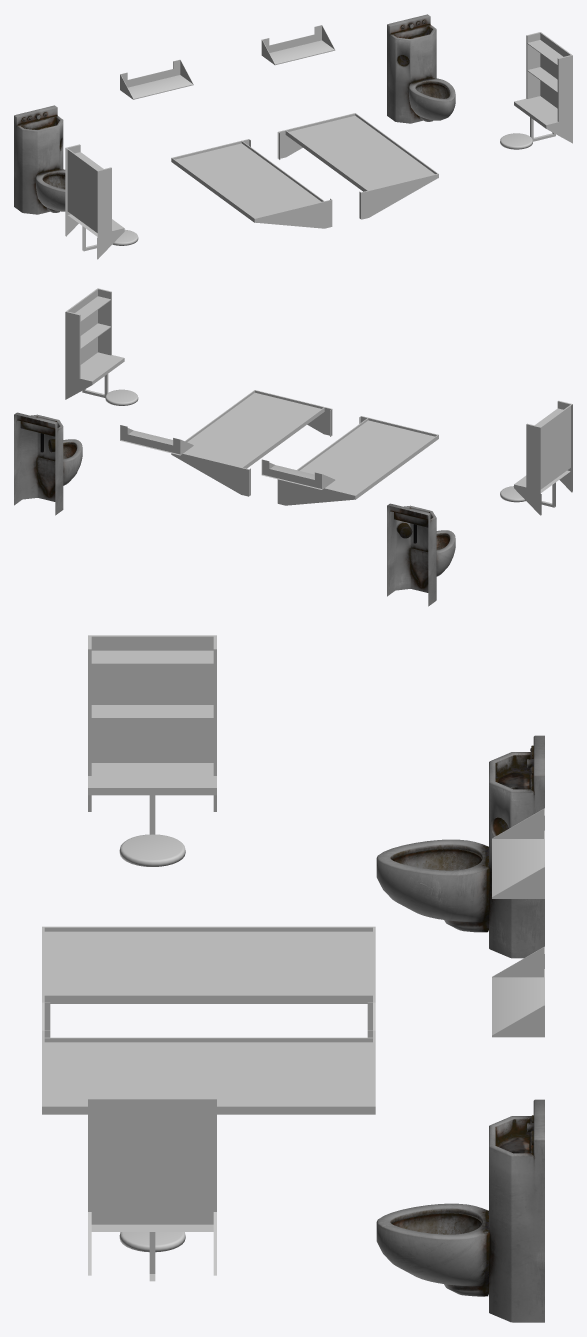
File: SM_Cell_02_Preset_Adseg.fbx
The picture shows the model from 3 angles, top to bottom: view 1: azimuth 30°, elevation 25°; view 2: azimuth 150°, elevation 25°; view 3: azimuth 270°, elevation 25°; orthographic projection. The views are drawn at different scales.
Visible parts, largest first — view 1: SM_Cell_02_Preset_Adseg_LOD0; view 2: SM_Cell_02_Preset_Adseg_LOD0; view 3: SM_Cell_02_Preset_Adseg_LOD0.
Boxes of the visible parts, <box> form: SM_Cell_02_Preset_Adseg_LOD0: <box>14,14,572,259</box>; SM_Cell_02_Preset_Adseg_LOD0: <box>14,288,572,606</box>; SM_Cell_02_Preset_Adseg_LOD0: <box>42,635,544,1322</box>.
Bounding box in the file's own units: 660 × 302 × 168.
